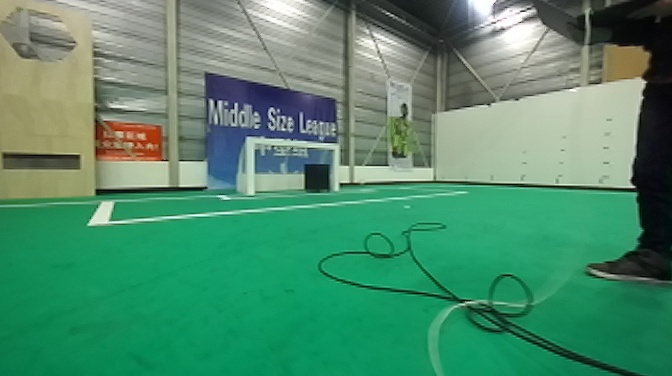goalpost: (242, 136, 258, 198), (325, 142, 342, 193)
human: (582, 3, 667, 301)
